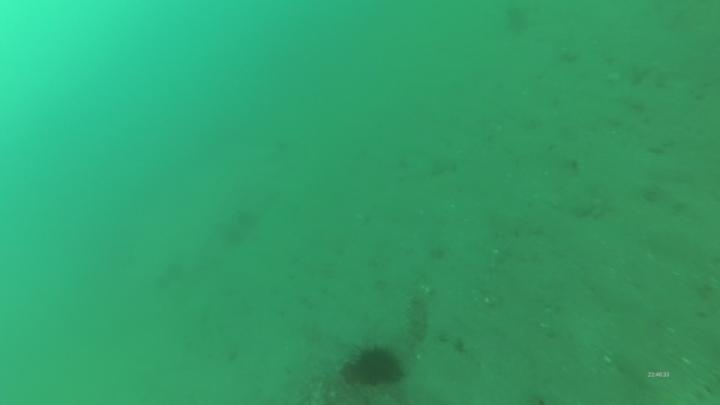echinus: (341, 341, 408, 389)
holothurian: (399, 291, 433, 352)
